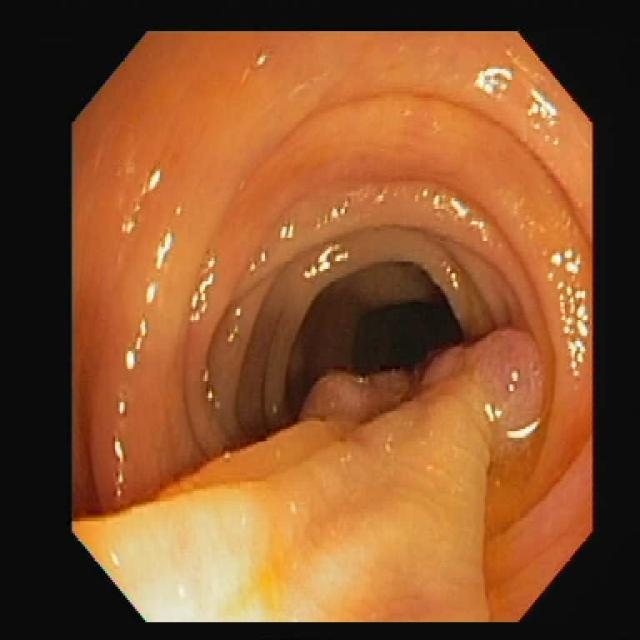tumor: (300, 329, 543, 438)
